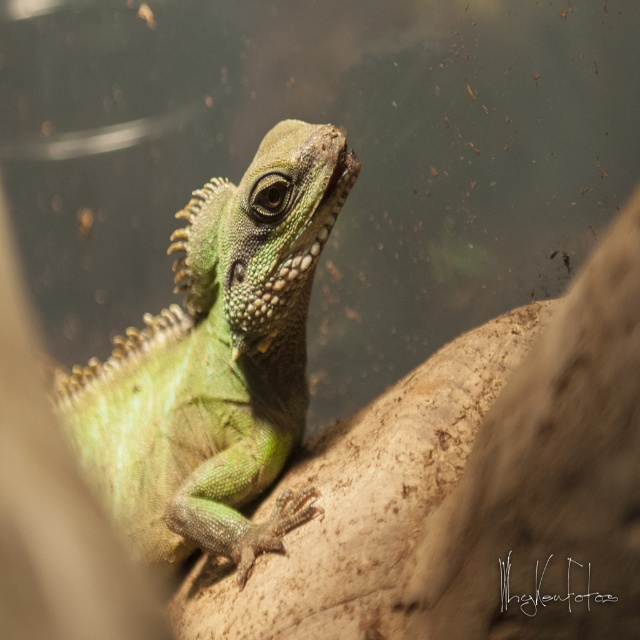Lizard: (36, 120, 380, 629)
